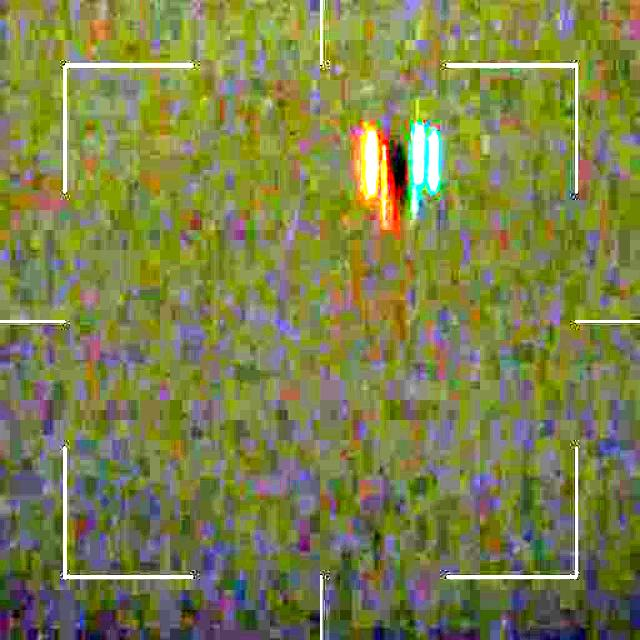bird: (355, 125, 449, 230)
